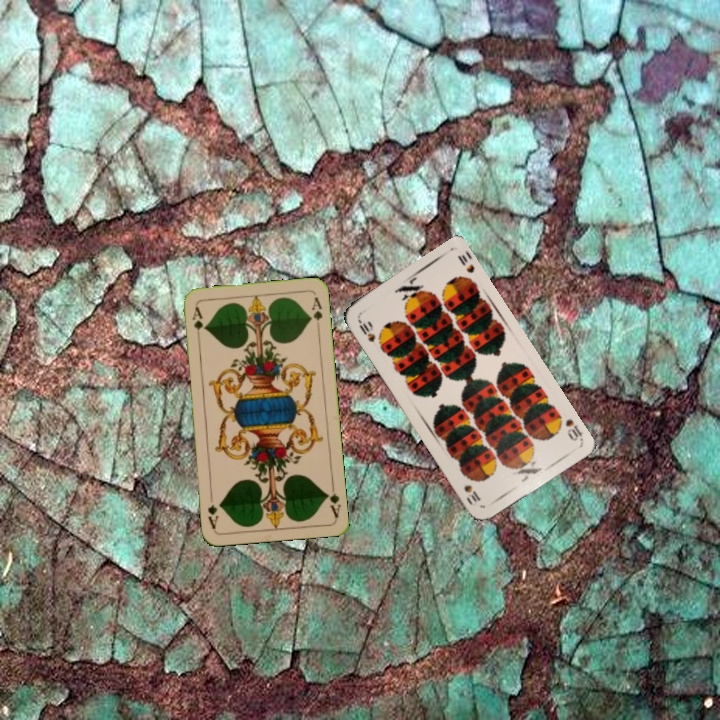GA: (322, 479, 343, 520), (188, 303, 205, 343)
S10: (354, 313, 378, 345), (561, 415, 585, 444)
